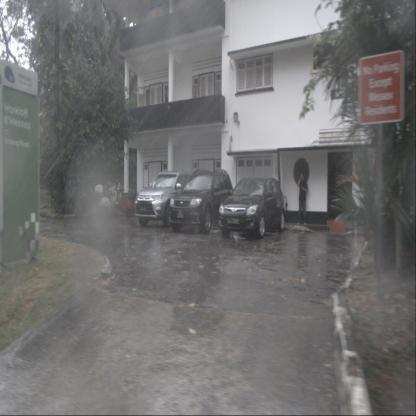human-pedestrian-adult: (297, 172, 308, 225)
vehicle-car: (168, 169, 236, 234), (219, 176, 285, 238), (134, 168, 202, 228)
vehicle-motorcycle: (93, 184, 119, 219), (112, 186, 133, 218)
